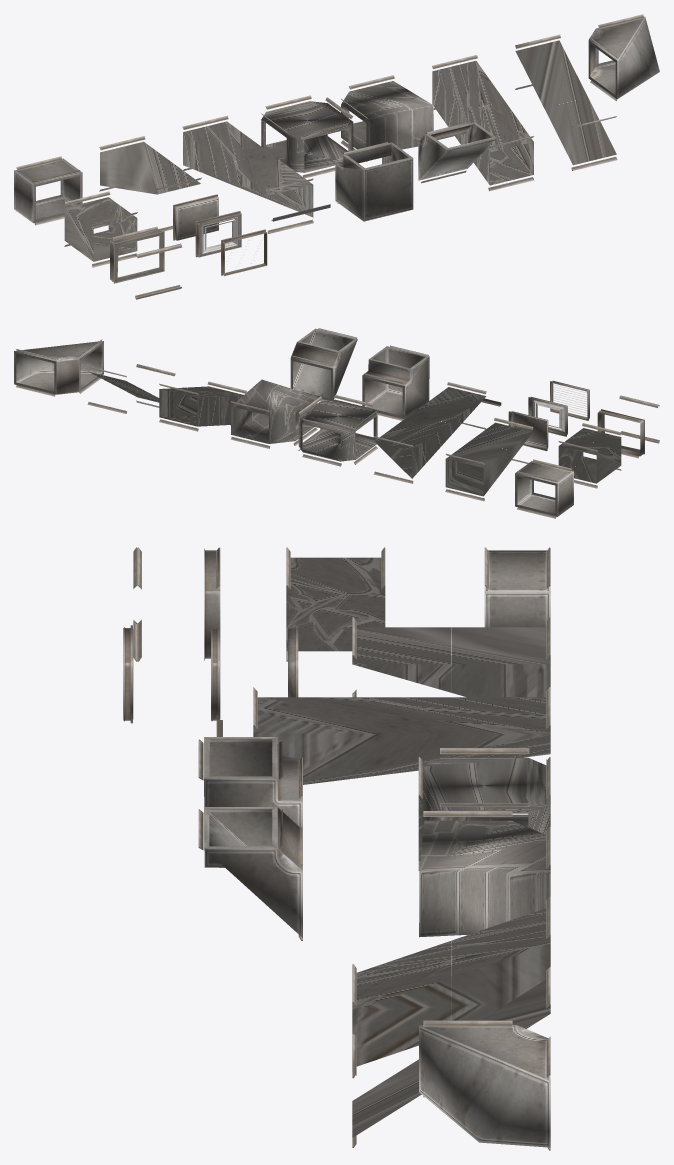
File: modular_airduct_rectangular_01_game.gltf
3 views of the same model, one above another, from view 1: azimuth 30°, elevation 25°; view 2: azimuth 150°, elevation 25°; view 3: azimuth 270°, elevation 25° (orthographic). The views are drawn at different scales.
Visible parts, largest first — view 1: modular_airduct_rectangular_01; view 2: modular_airduct_rectangular_01; view 3: modular_airduct_rectangular_01.
Part boxes in pixels (x1=…): modular_airduct_rectangular_01: x1=14, y1=14, x2=659, y2=299; modular_airduct_rectangular_01: x1=14, y1=328, x2=659, y2=518; modular_airduct_rectangular_01: x1=123, y1=547, x2=550, y2=1150.
Size of the model in its own units: 7.6 by 1.08 by 2.59.
2 materials, 2 textured.
